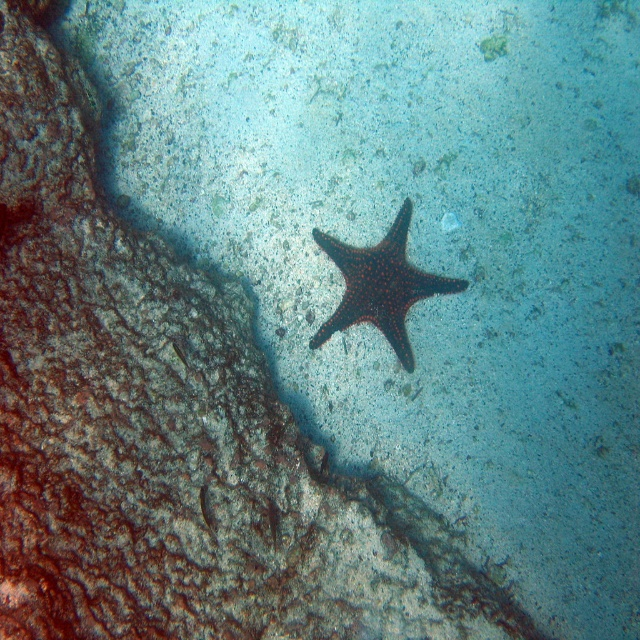Starfish: (309, 197, 469, 374)
